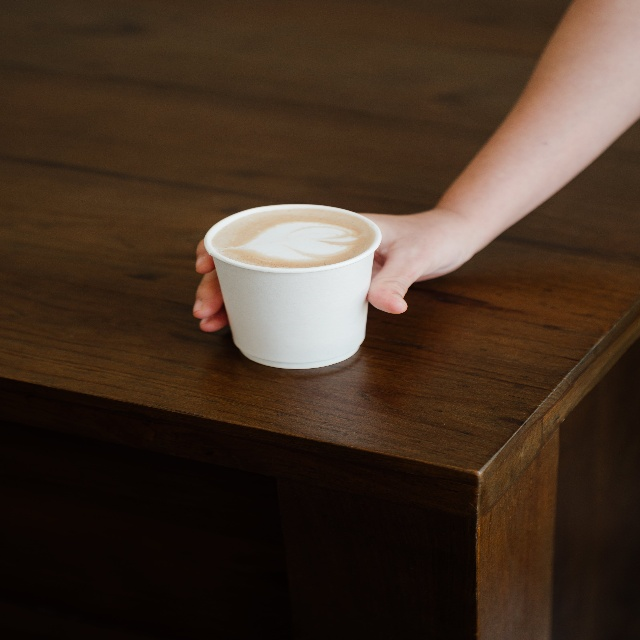Sin_guantes: (195, 196, 464, 339)
